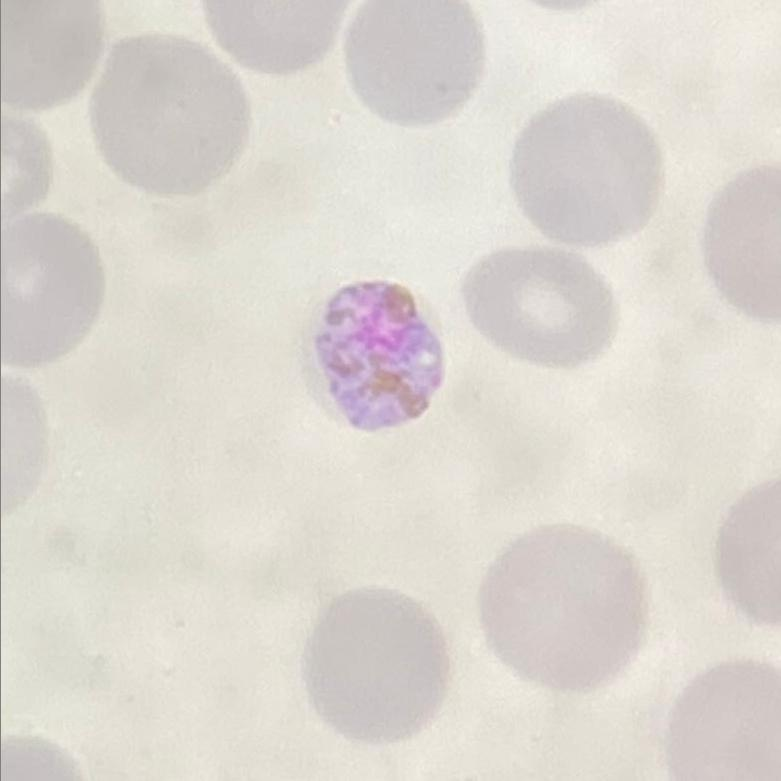Infected: (296, 273, 445, 433)
Uninfected: (486, 521, 643, 692), (94, 35, 250, 201), (298, 589, 451, 751), (510, 99, 667, 244), (458, 245, 618, 372), (342, 0, 487, 126), (0, 215, 106, 368), (666, 657, 781, 781)
